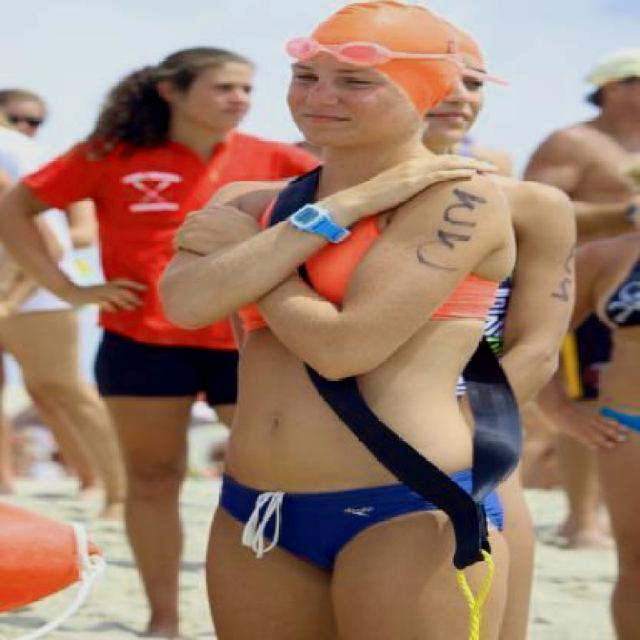face_nomask: (284, 58, 390, 136), (198, 79, 253, 126)
glasses: (269, 43, 468, 71)
hand_noglove: (385, 148, 501, 198), (167, 200, 244, 257), (553, 397, 625, 452), (78, 274, 147, 315)
person: (200, 12, 514, 640), (19, 43, 272, 640)
